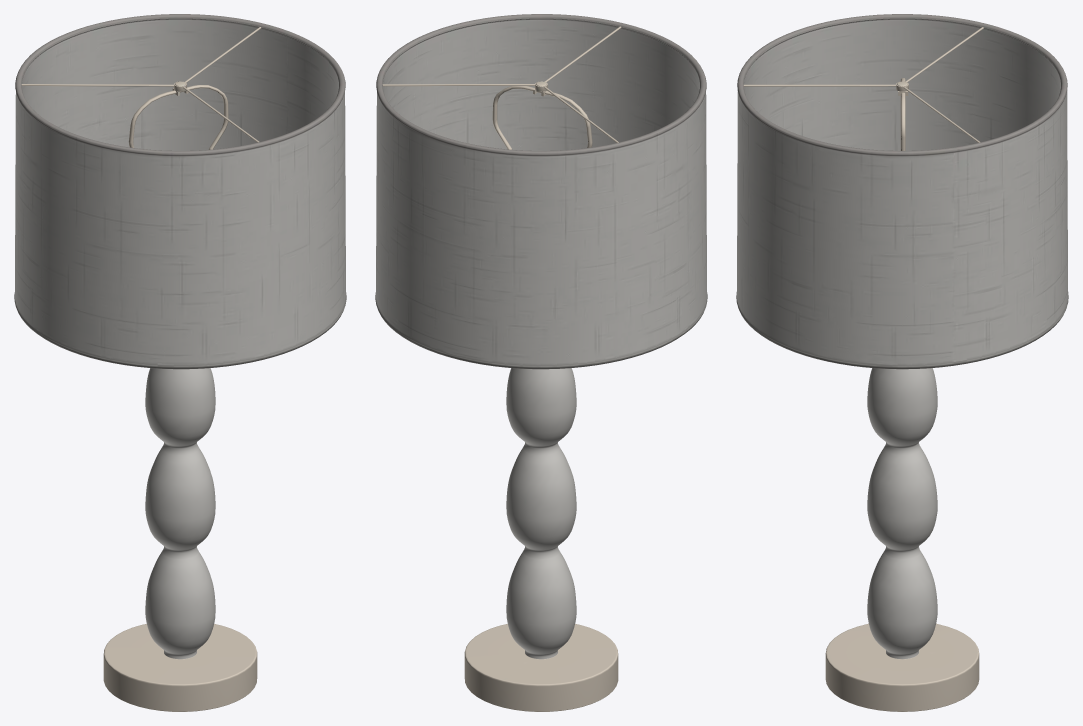
Rendered from abo-B075X2BH3Z.glb.
3 renders of one model, left to right at view 1: azimuth 30°, elevation 25°; view 2: azimuth 150°, elevation 25°; view 3: azimuth 270°, elevation 25°, orthographic.
Size of the model in its own units: 0.282 by 0.559 by 0.282.
1 material, 1 textured.
